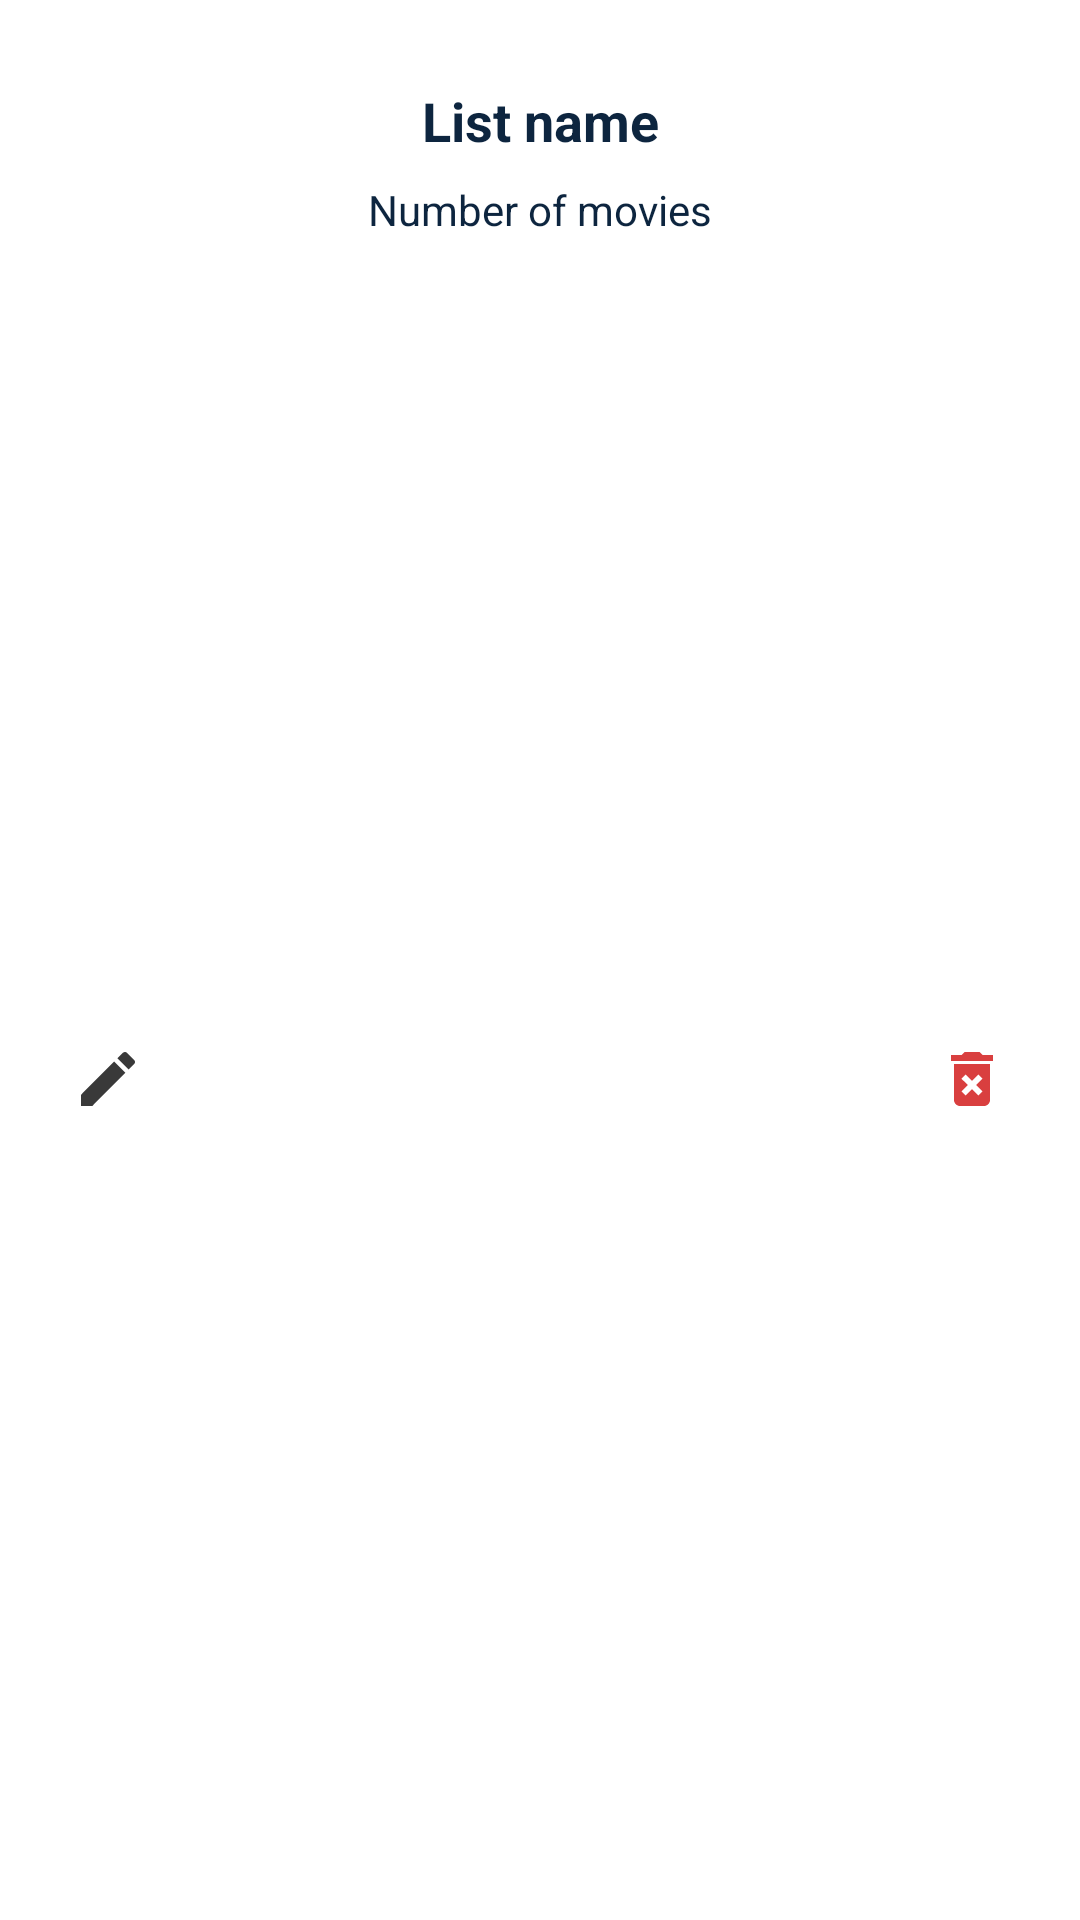

Where to tap for icons on this 1080×1920 app screen, as point (x, y):
delete: point (972, 1079)
edit: point (108, 1079)
